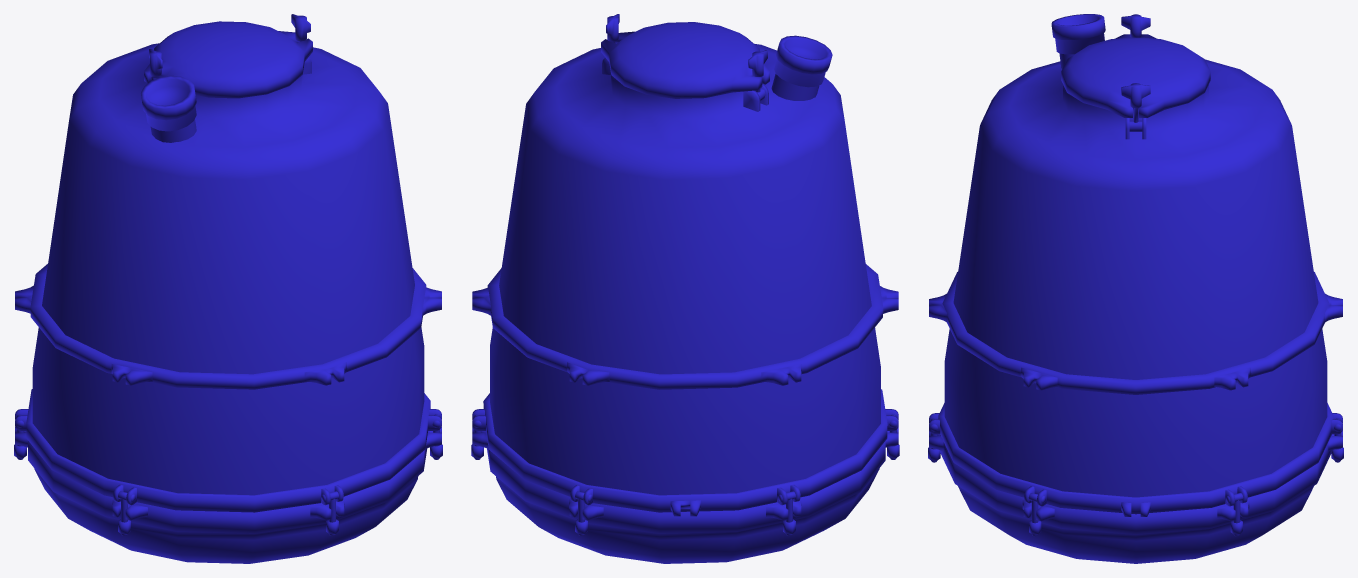
The model's file is Cargo_KTO.fbx.
The picture shows the model from 3 angles, left to right: view 1: azimuth 30°, elevation 25°; view 2: azimuth 150°, elevation 25°; view 3: azimuth 270°, elevation 25°; orthographic projection. The views are drawn at different scales.
Parts seen in each view (by area): view 1: Cargo_KTO, Cargo_KTO.003; view 2: Cargo_KTO, Cargo_KTO.003; view 3: Cargo_KTO, Cargo_KTO.003, Cargo_KTO.001.
Boxes of the visible parts, x1,y1,x2,y2 form: Cargo_KTO: (15,21,441,512); Cargo_KTO.003: (15,426,441,563); Cargo_KTO: (472,22,898,516); Cargo_KTO.003: (472,426,898,563); Cargo_KTO: (929,14,1342,516); Cargo_KTO.003: (929,430,1342,563); Cargo_KTO.001: (1121,83,1150,131).
Bounding box in the file's own units: 354 × 477 × 360.
